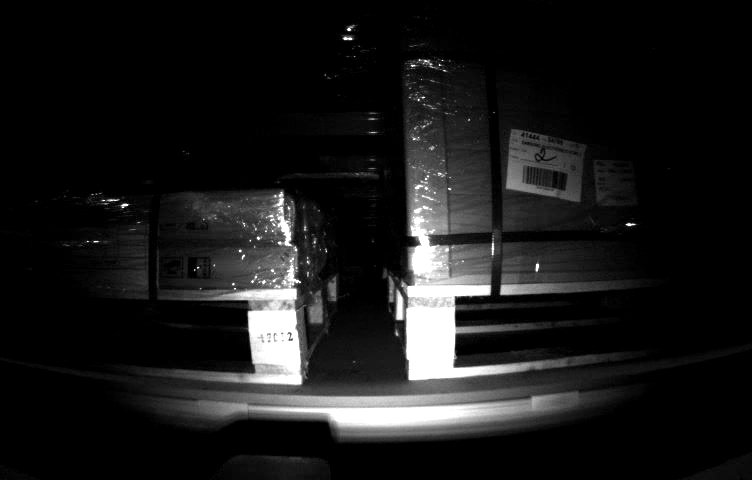True Barcode: (591, 157, 650, 212)
